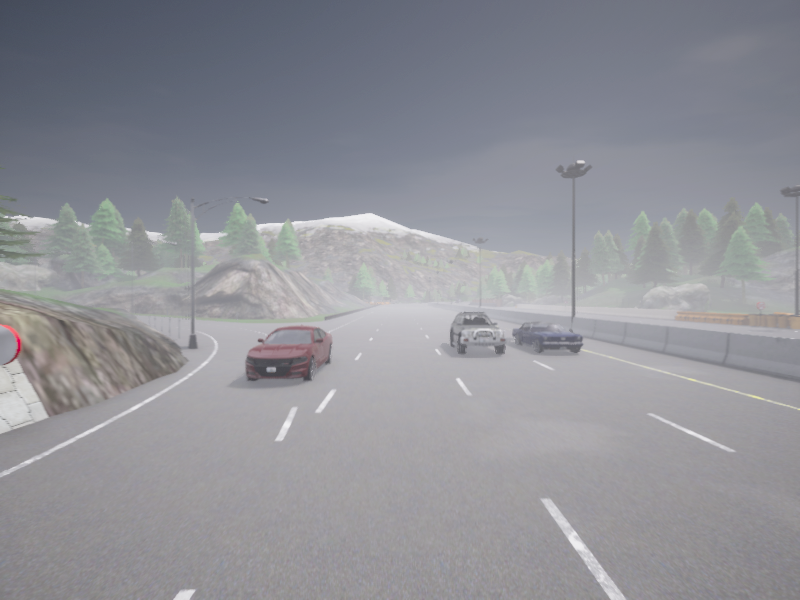vehicle: (245, 324, 332, 380), (449, 311, 506, 354), (513, 321, 583, 353), (456, 299, 461, 303)
